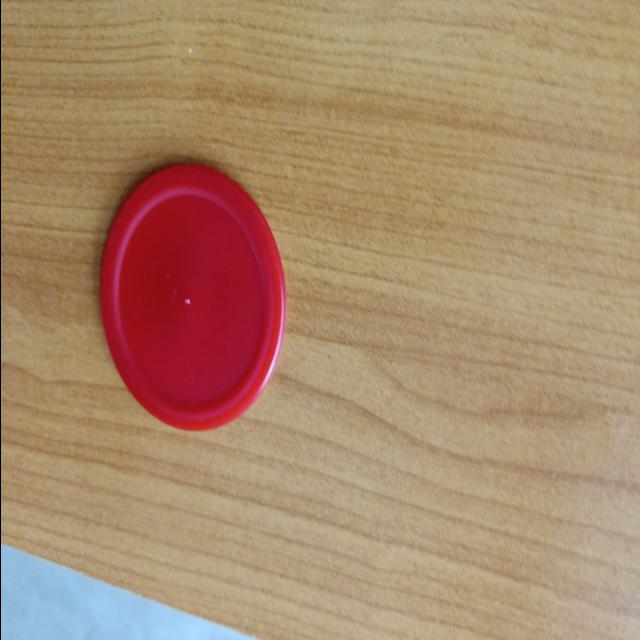chip: (95, 158, 287, 433)
